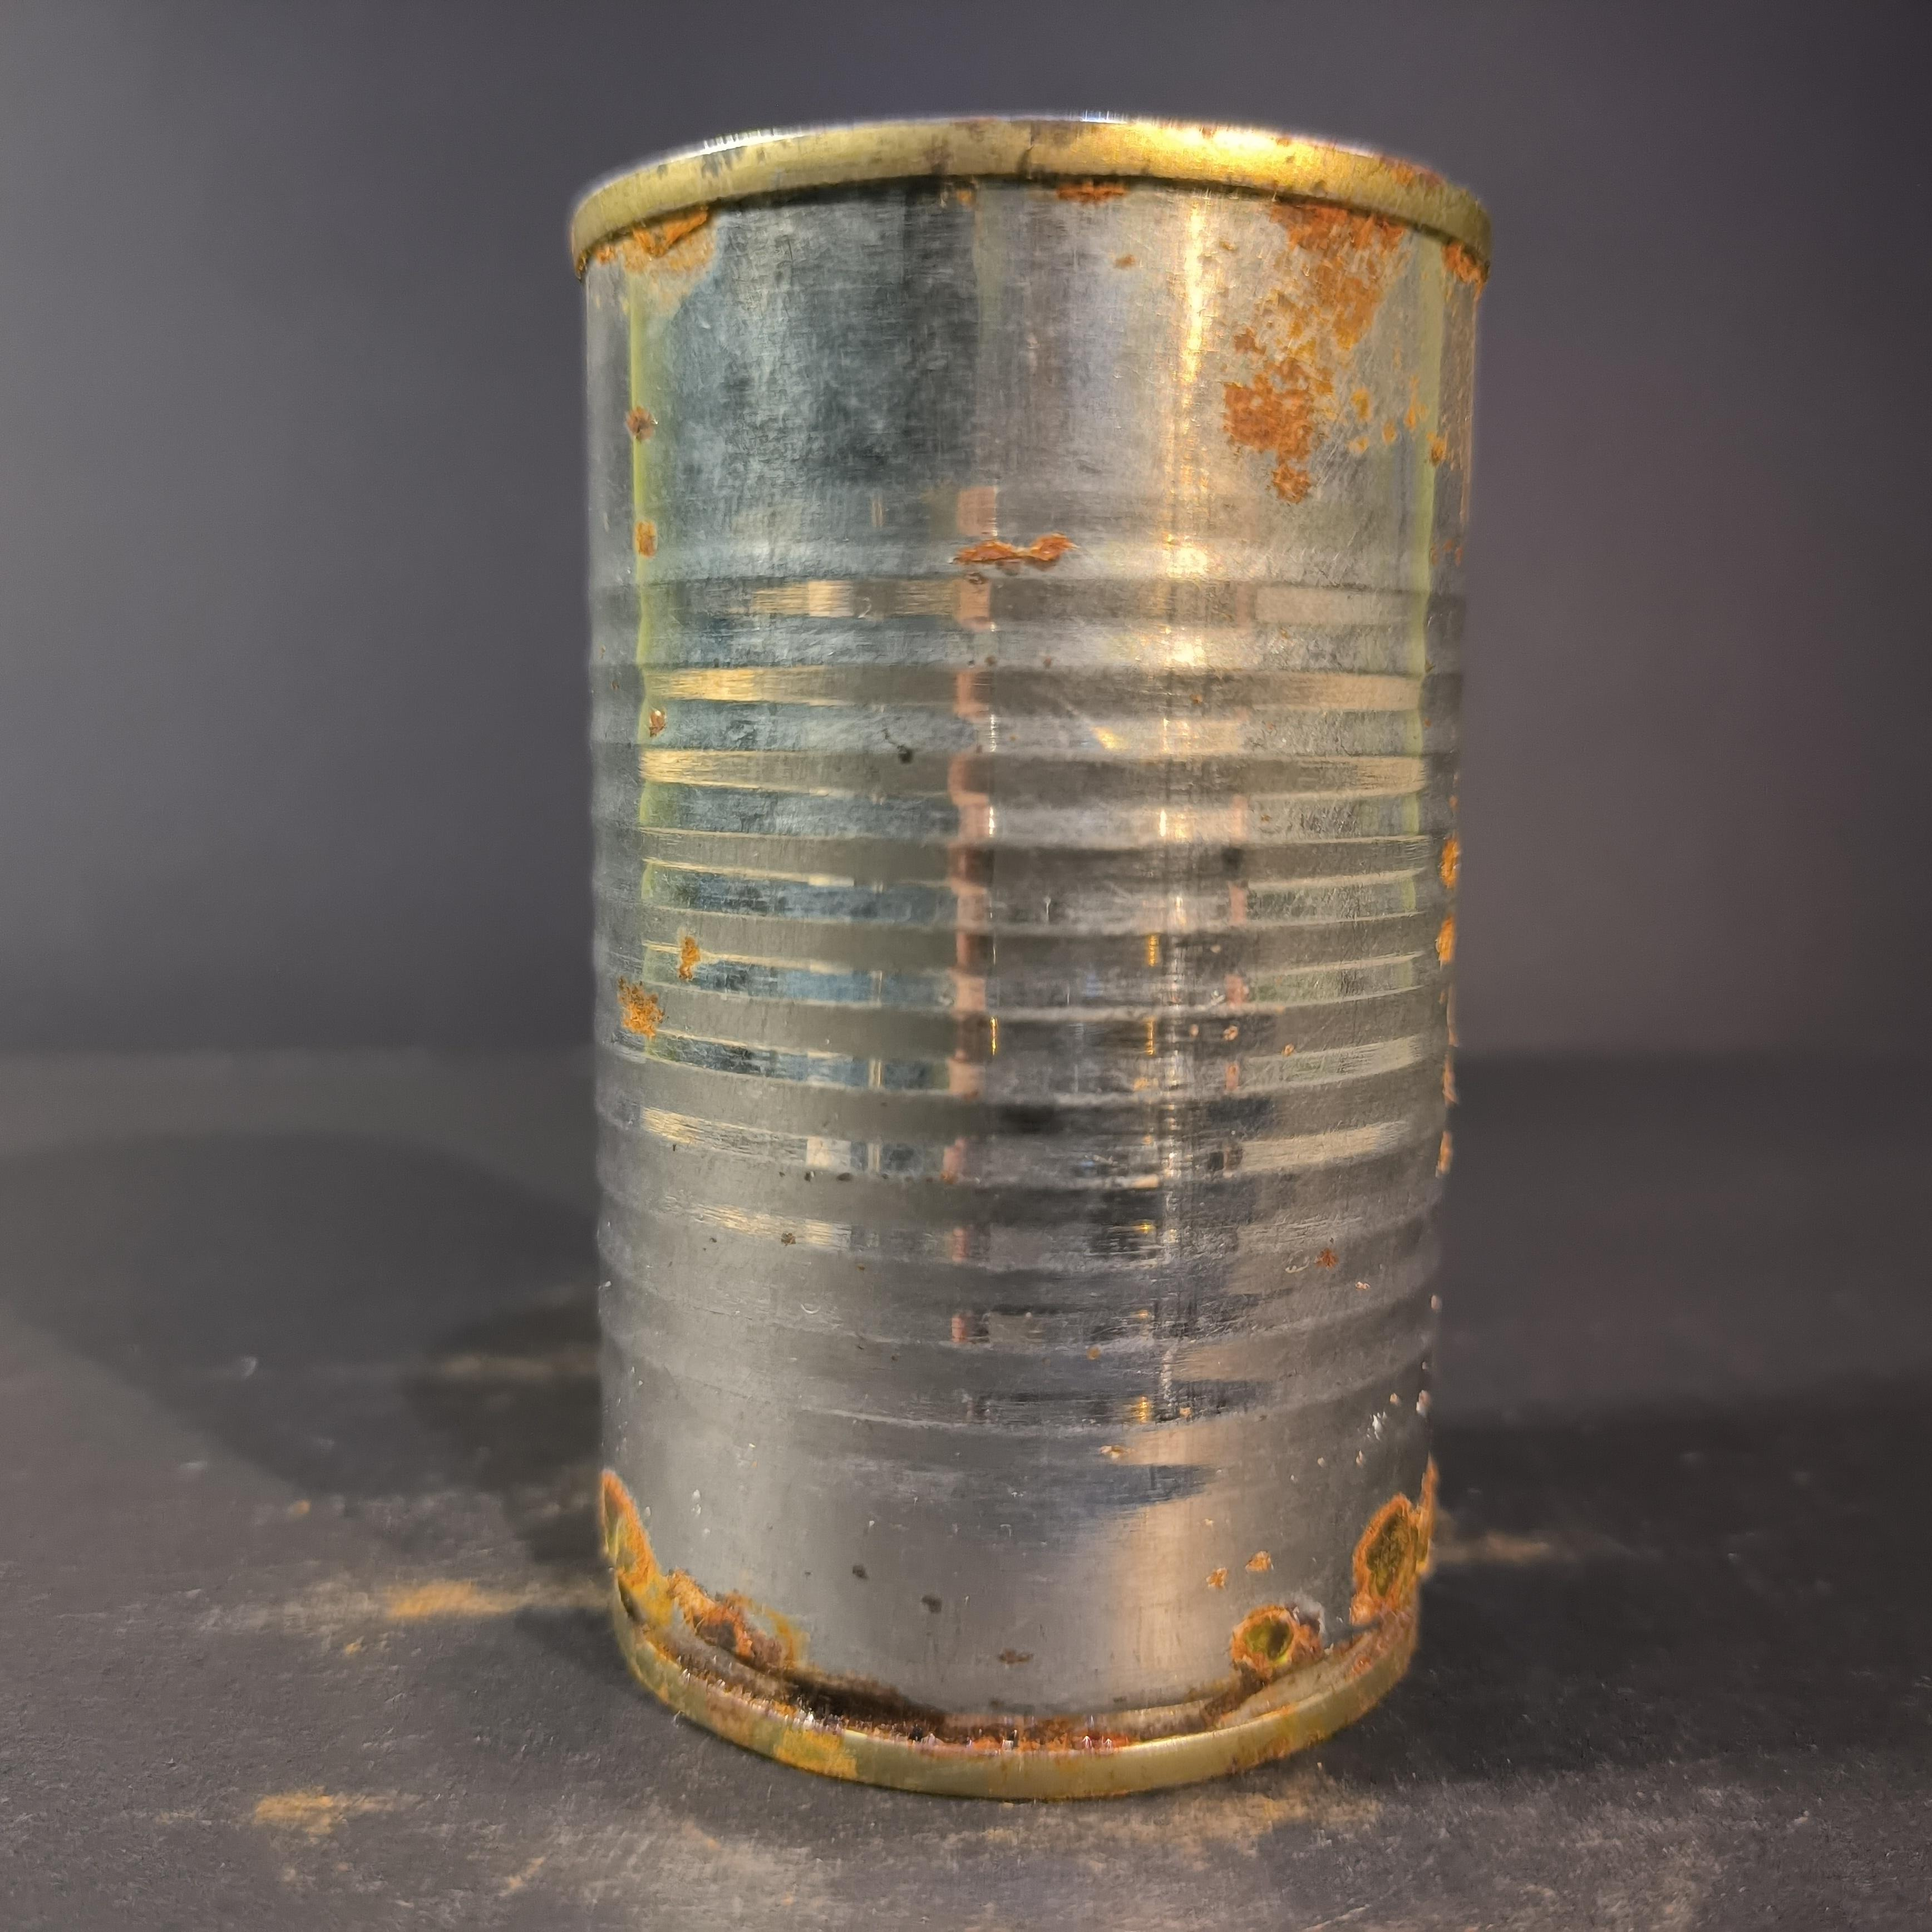Rusted: (529, 78, 1497, 1806)
